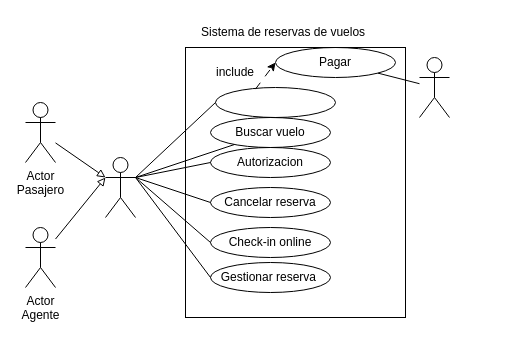
The diagram is 520 pixels wide and 340 high, and some of its shapes have lost their labels. Here are the shapes that lost their labels. From the top down, the centre of each, then its label:
At [275,102]: "Reservar vuelo".
At [434,87]: "Actor Sistema del pago externo".
At [120,187]: "Actor Usuario".
